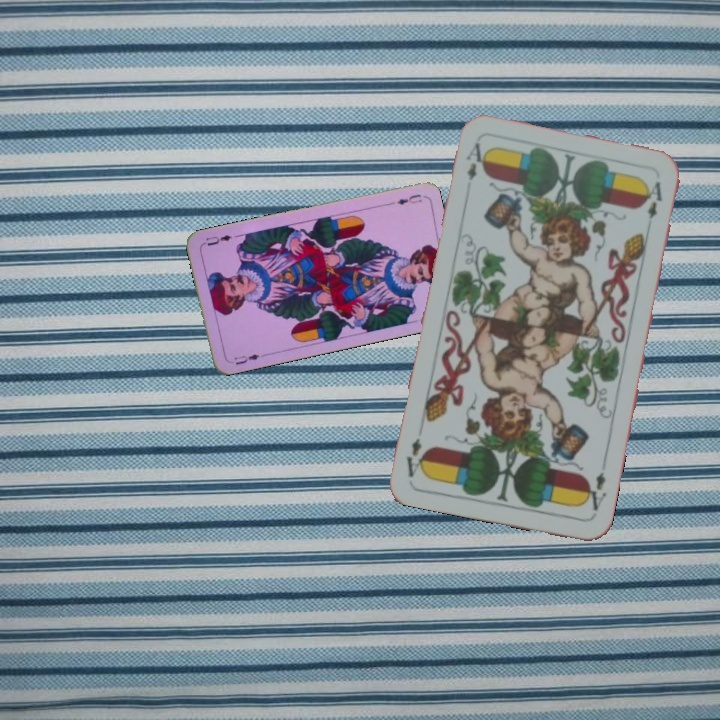EA: (580, 467, 609, 513), (462, 139, 490, 183)
EU: (226, 350, 262, 367), (393, 190, 425, 207)
